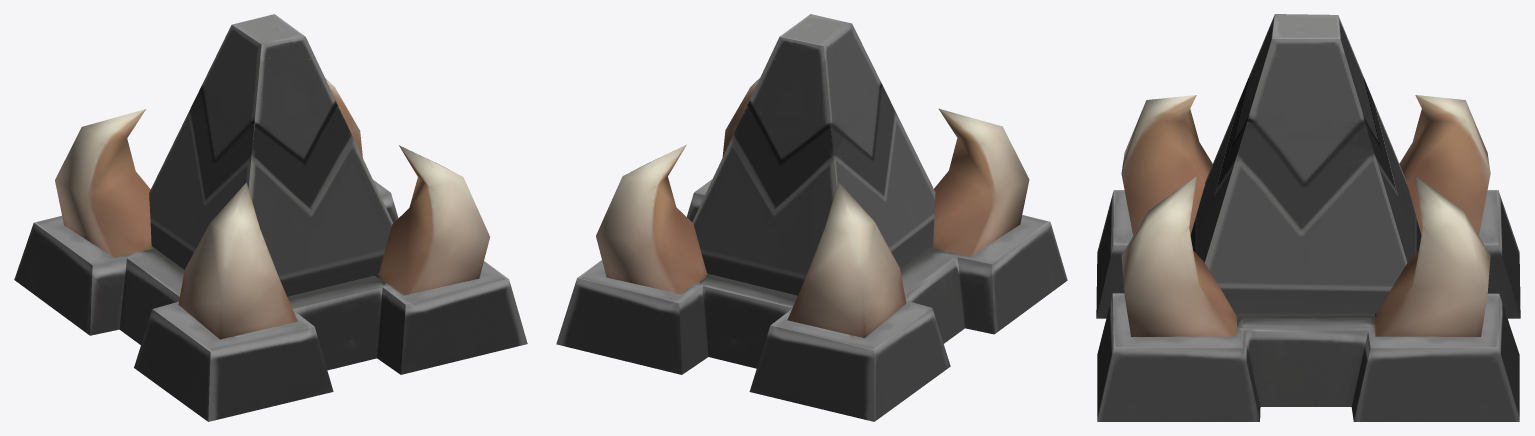
File: com_emnujian@Base.FBX
The picture shows the model from 3 angles, left to right: view 1: azimuth 30°, elevation 25°; view 2: azimuth 150°, elevation 25°; view 3: azimuth 270°, elevation 25°; orthographic projection. The views are drawn at different scales.
Visible parts, largest first — view 1: com_emnujian_a; view 2: com_emnujian_a; view 3: com_emnujian_a.
Part boxes in pixels (x1=…): com_emnujian_a: x1=14, y1=14, x2=527, y2=421; com_emnujian_a: x1=556, y1=14, x2=1067, y2=421; com_emnujian_a: x1=1096, y1=14, x2=1520, y2=421.
Bounding box in the file's own units: 2.62 × 2.23 × 2.76.
